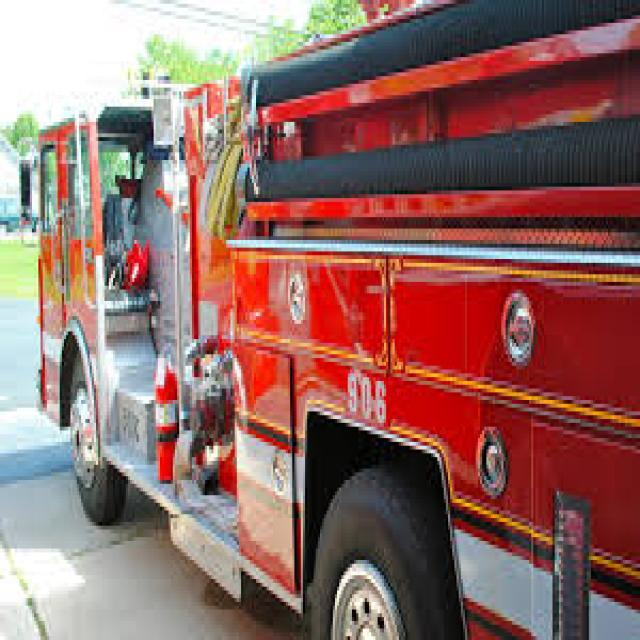Fire_brigade: (21, 72, 640, 640)
